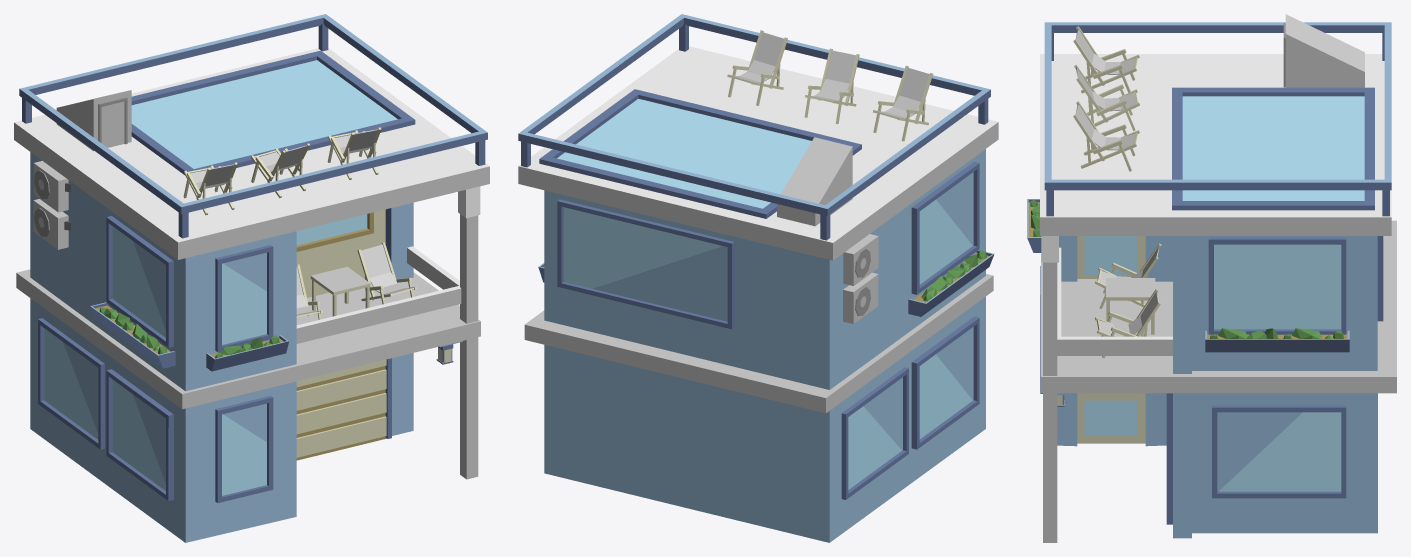
The model's file is cottage_009.glb.
3 renders of one model, left to right at view 1: azimuth 30°, elevation 25°; view 2: azimuth 150°, elevation 25°; view 3: azimuth 270°, elevation 25°, orthographic. The views are drawn at different scales.
Visible parts, largest first — view 1: cottage_009; view 2: cottage_009; view 3: cottage_009.
Part boxes in pixels (<box>): cottage_009: <box>14,14,489,542</box>; cottage_009: <box>518,14,998,542</box>; cottage_009: <box>1027,14,1396,542</box>.
Size of the model in its own units: 6.82 by 7.35 by 6.37.
Materials: 1 (1 with a texture image).
